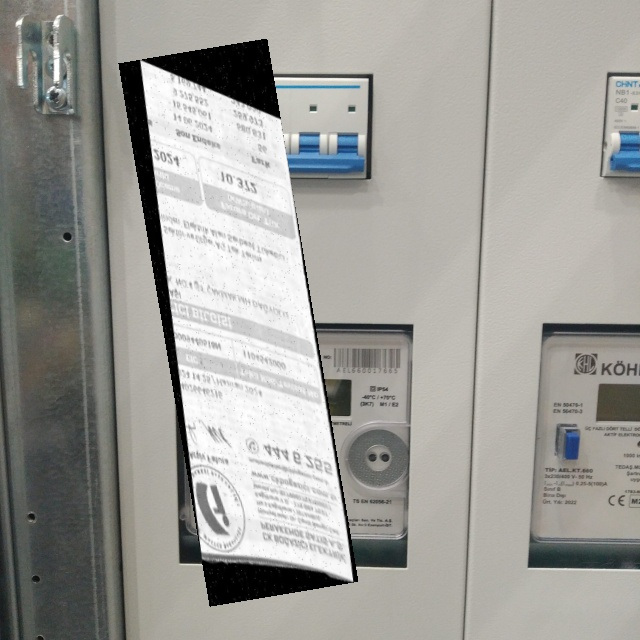electricity-bill: (118, 38, 358, 606)
